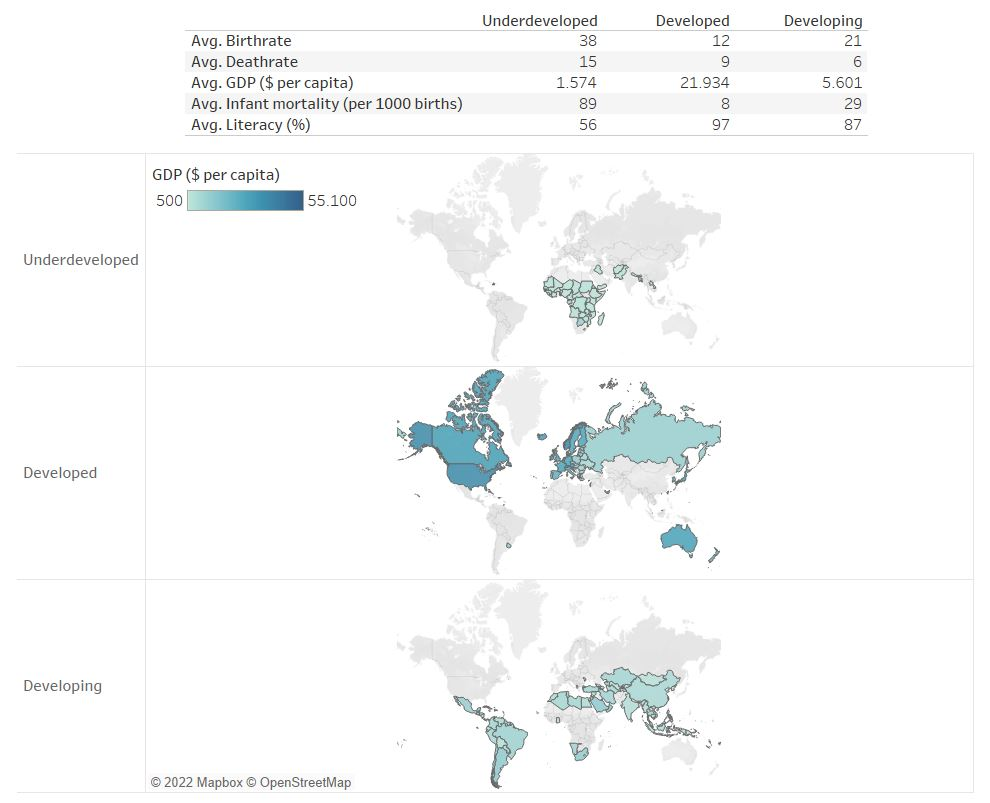

This screenshot's page, from the dashboard's own definition file:
{"tool":"tableau","page":{"name":"Dashboard Clusters (2)","canvas":[1000,800],"ordinal":1},"visuals":[{"type":"worksheet","title":"Clusters table","mark":"Automatic","box":[185,4,683,141]},{"type":"worksheet","title":"Map","mark":"Multipolygon","box":[17,147,957,641]},{"type":"legend","title":"Map","param":"[federated.1xrx4eb0a5q9ys1g3l2uy11kz5en].[avg:GDP ($ per capita):qk]","box":[152,158,210,64]}]}

Visuals, with their boxes in screenshot pixels (x1, y1, x2, y2), scaled from the page's 1000x800 canvas onto the 990x803 screenshot:
"Clusters table" worksheet: left=183, top=4, right=859, bottom=146
"Map" worksheet (Multipolygon marks): left=17, top=148, right=964, bottom=791
"Map" legend: left=150, top=159, right=358, bottom=223
